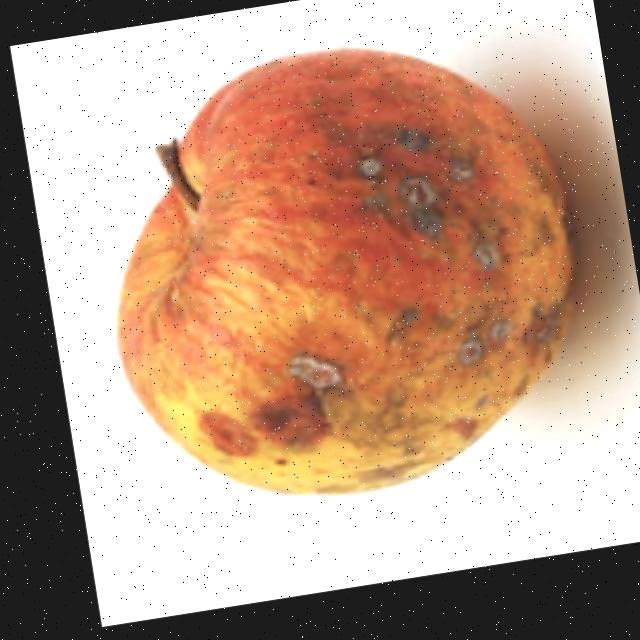Rotten: (67, 11, 616, 538)
